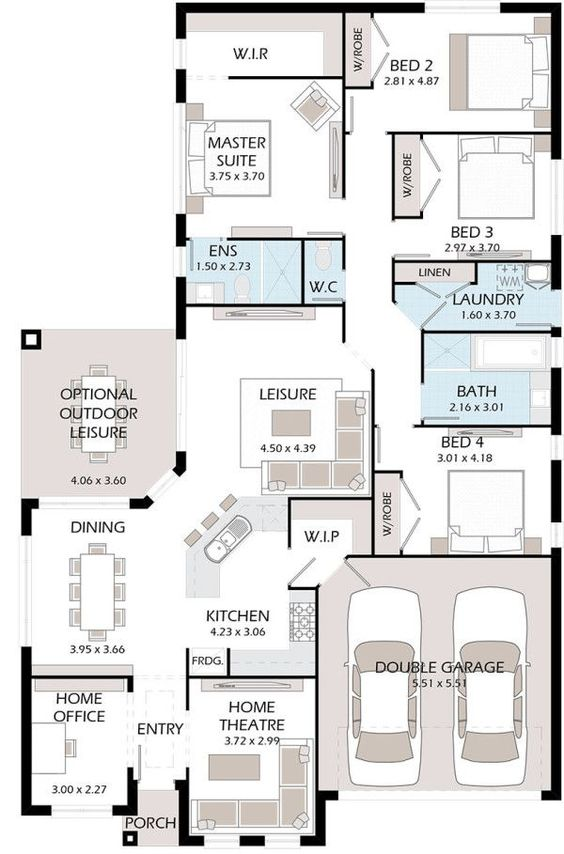room: (176, 75, 346, 242), (342, 4, 560, 131), (372, 424, 562, 557), (186, 676, 319, 845), (391, 131, 561, 262), (20, 675, 134, 815), (420, 330, 564, 429)
